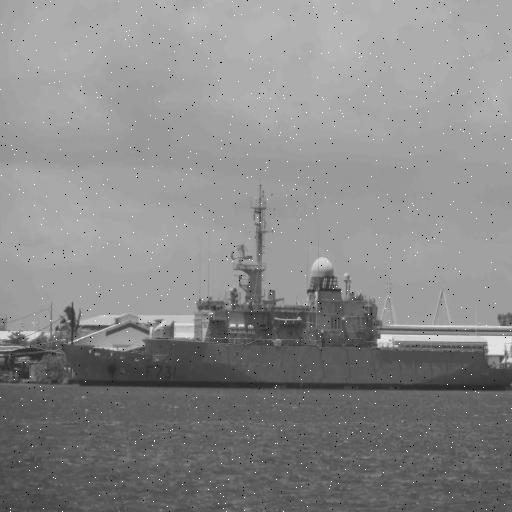Fragata: (56, 176, 512, 394)
